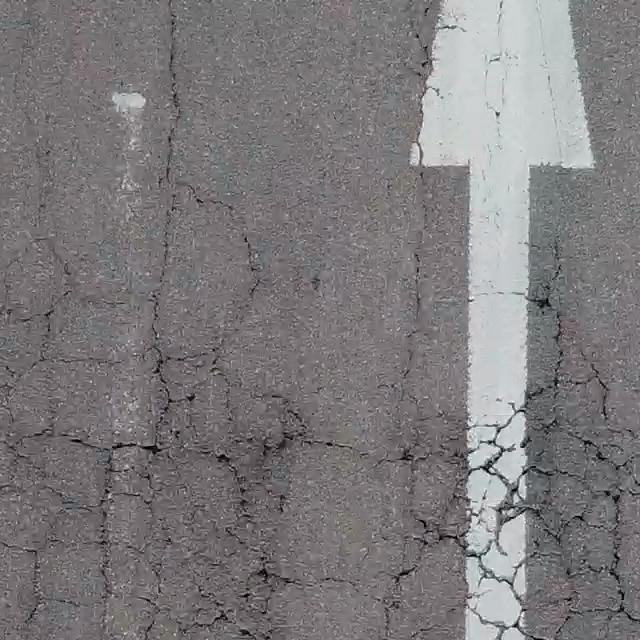GRIETA: (402, 1, 434, 299), (12, 0, 52, 221), (167, 0, 180, 159)
PIEL DE COCODRILO: (0, 160, 639, 639)
